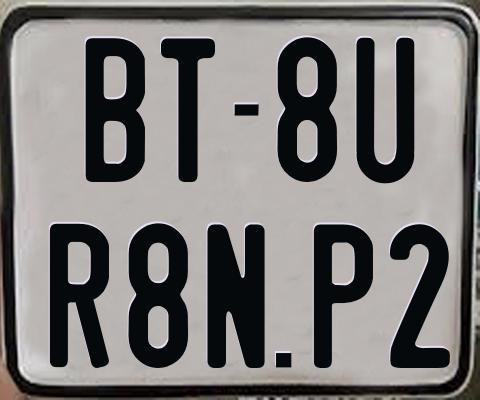2: (390, 224, 454, 369)
8: (125, 223, 188, 369), (276, 34, 337, 179)
B: (84, 38, 144, 185)
N: (204, 224, 268, 368)
P: (314, 221, 376, 368)
R: (50, 221, 110, 369)
T: (159, 37, 217, 182)
U: (354, 35, 418, 184)
